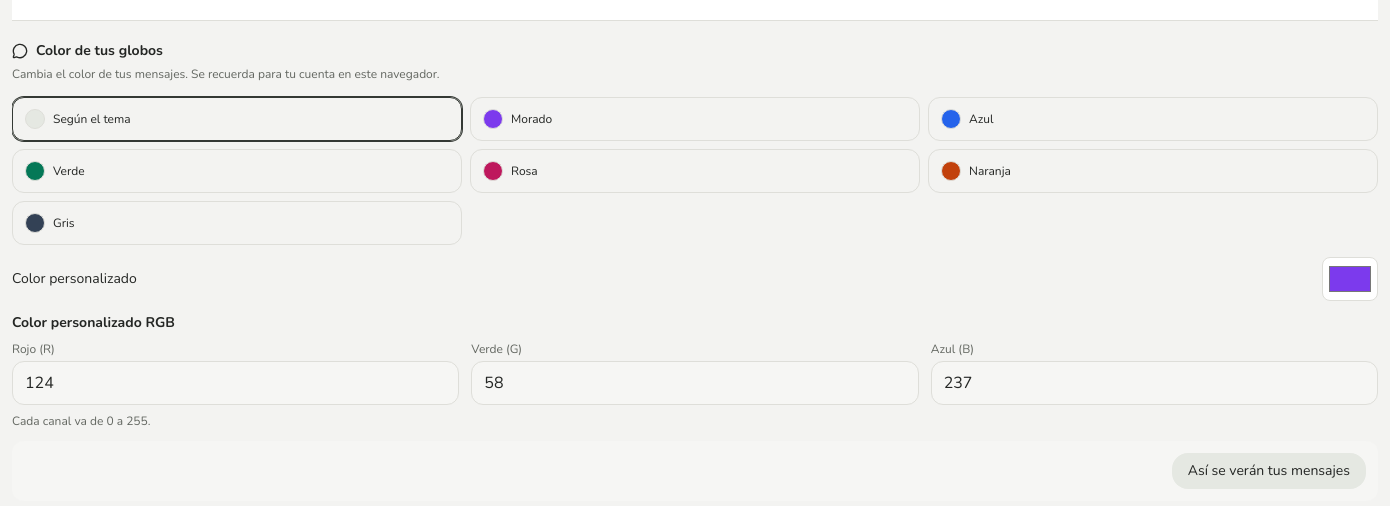
Test: personalización por cuenta › RGB aplica y recuerda el color sin aceptar canales vacíos, fraccionarios o fuera de 0–255
The image size is (1390, 506).
Replace the text in the number field labelled "Rojo (R)" with "255" at (236, 382), box [12,360,459,404]
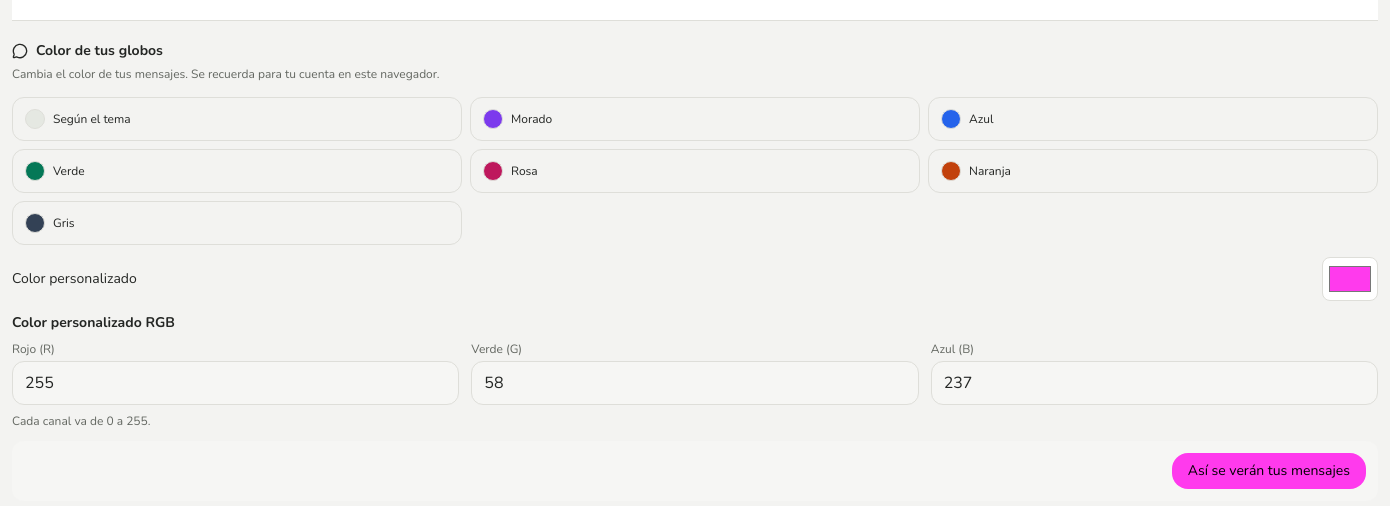
Replace the text in the number field labelled "Verde (G)" with "128" at (695, 382), box [471,360,919,404]
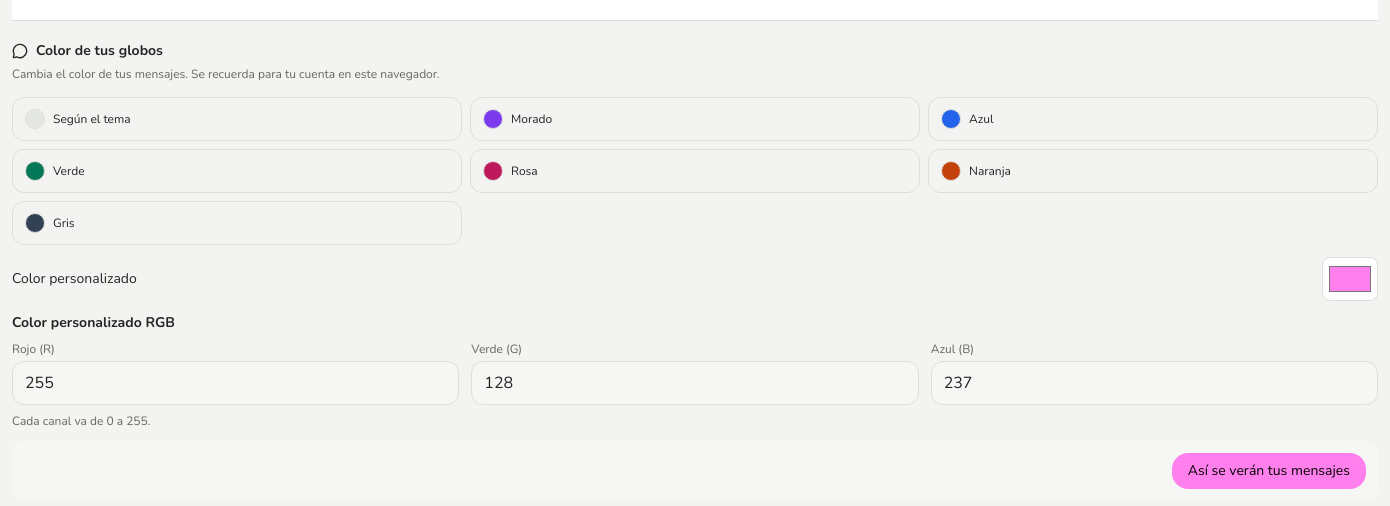
Replace the text in the number field labelled "Azul (B)" with "0" at (1154, 382), box [931,360,1378,404]
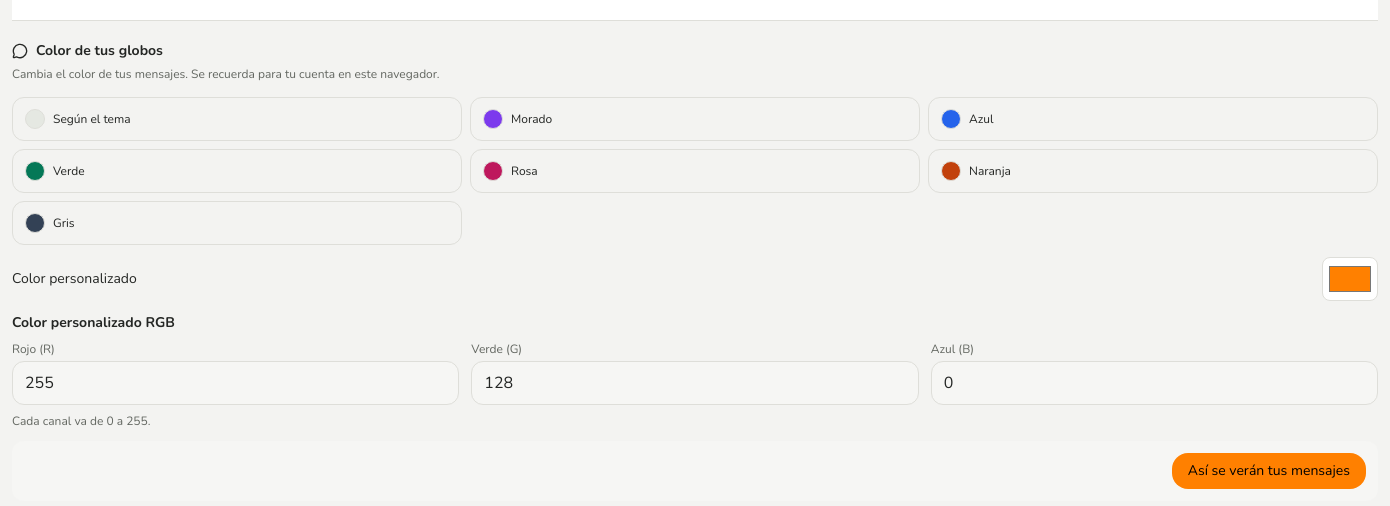
Replace the text in the number field labelled "Verde (G)" with "256" at (695, 382), box [471,360,919,404]
Leave the number field labelled "Verde (G)", box [471,360,919,404]
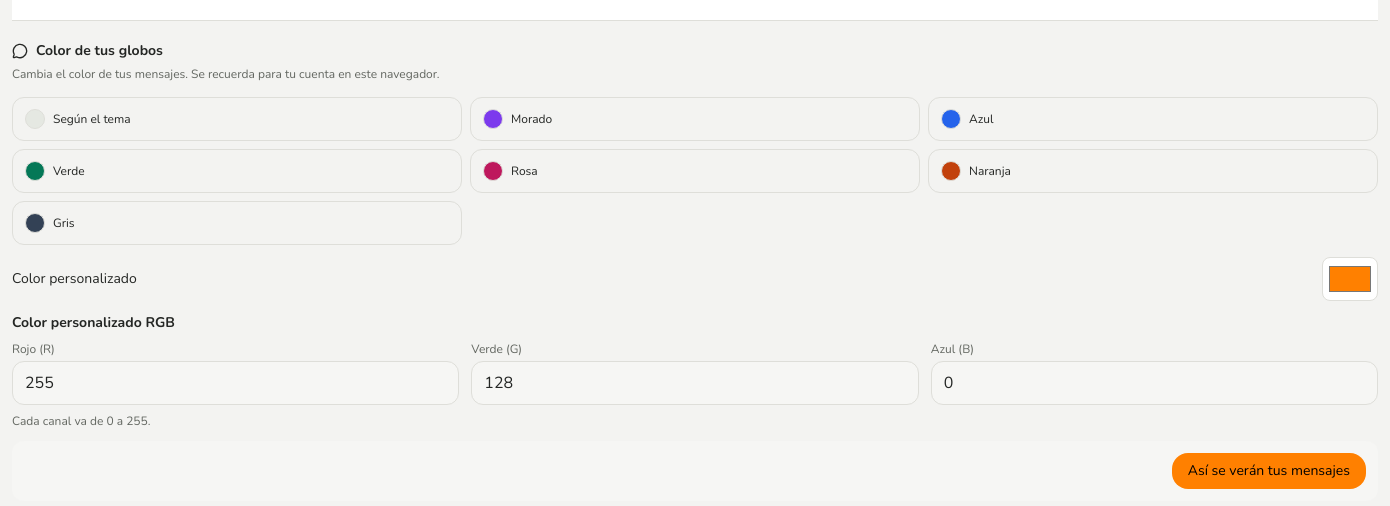
Clear the number field labelled "Rojo (R)" at (236, 382), box [12,360,459,404]
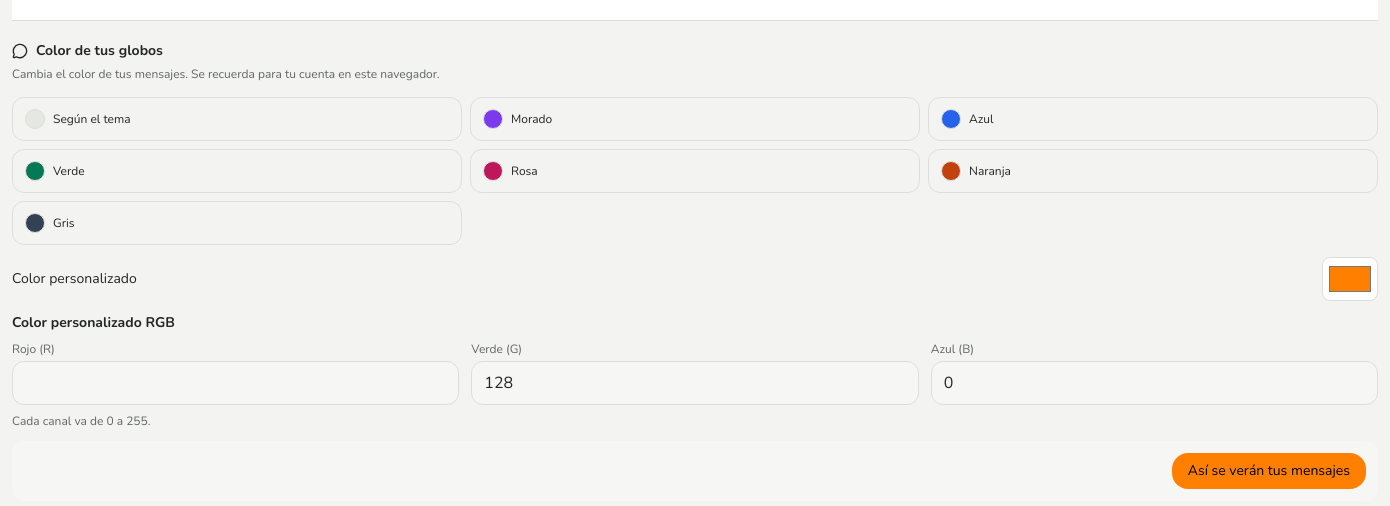
Type "#010203" into the colour field labelled "Color personalizado" at (1350, 278), box [1322,256,1378,300]
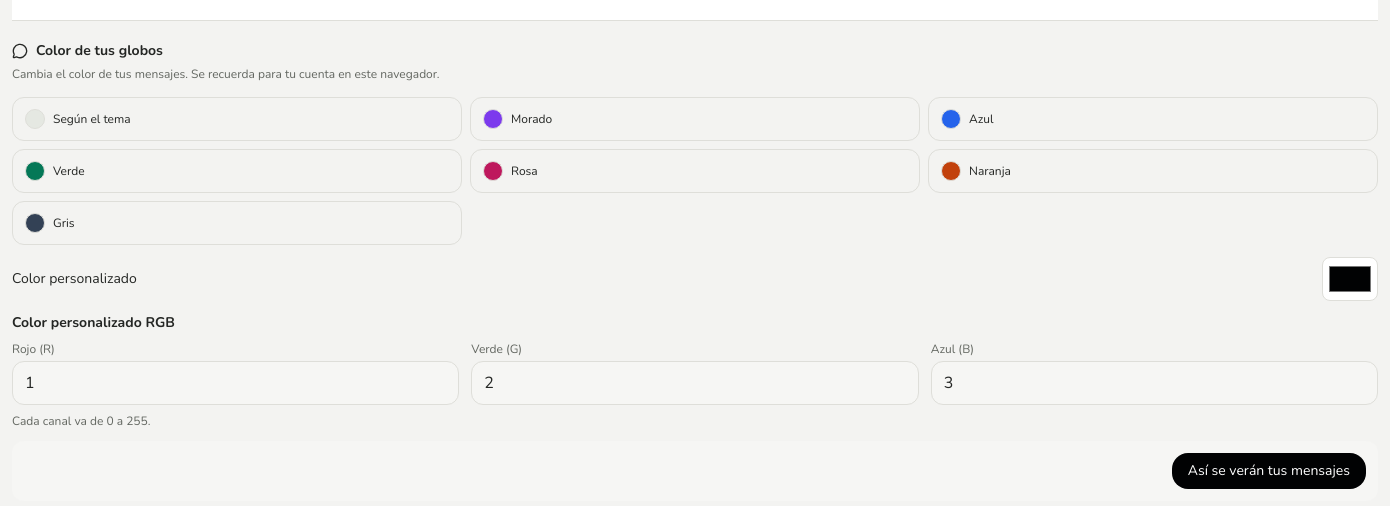
expect the number field labelled "Rojo (R)" holds "1": met, box [12,360,459,404]
expect the number field labelled "Verde (G)" holds "2": met, box [471,360,919,404]
expect the number field labelled "Azul (B)" holds "3": met, box [931,360,1378,404]
